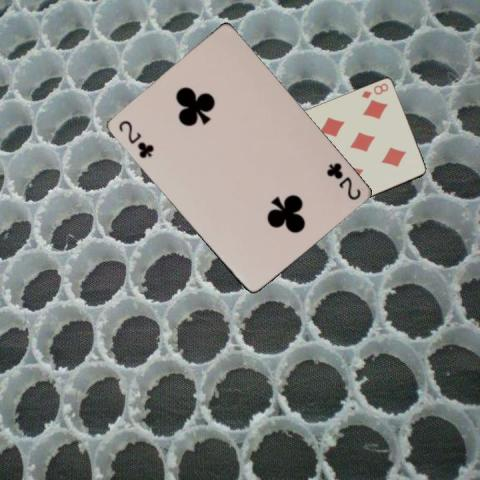2c: (116, 117, 156, 160), (323, 160, 362, 202)
8d: (358, 81, 390, 100)
